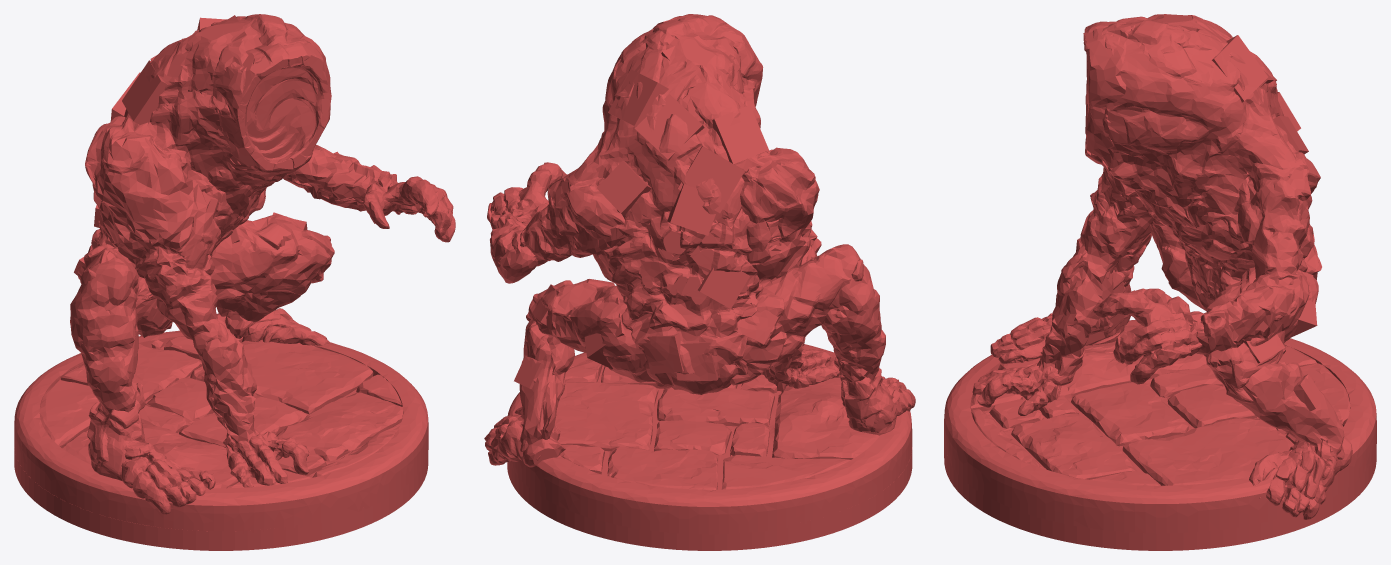
The model's file is mirror-monster.glb.
The picture shows the model from 3 angles, left to right: view 1: azimuth 30°, elevation 25°; view 2: azimuth 150°, elevation 25°; view 3: azimuth 270°, elevation 25°; orthographic projection. The views are drawn at different scales.
Parts seen in each view (by area): view 1: mirror-monster; view 2: mirror-monster; view 3: mirror-monster.
Part boxes in pixels (x1,y1,x2,y2): mirror-monster: (14, 14, 455, 550); mirror-monster: (484, 14, 915, 550); mirror-monster: (944, 14, 1376, 550).
Size of the model in its own units: 33.77 by 34.99 by 29.98.
